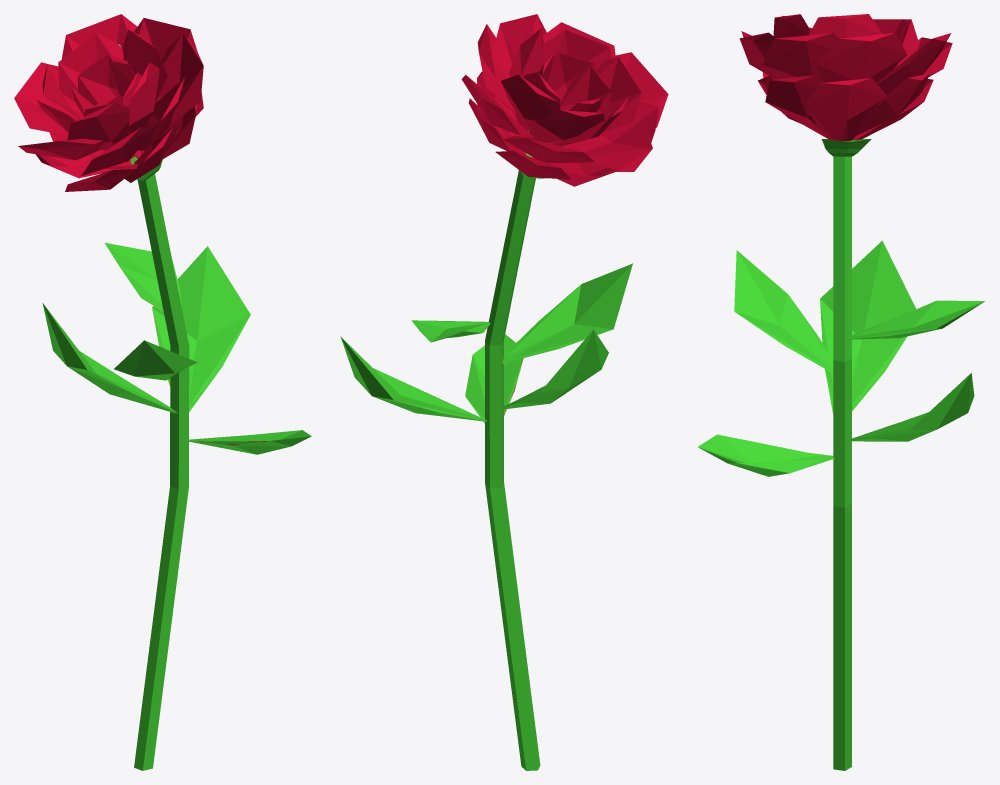
File: flower3.fbx
3 views of the same model, side by side, from view 1: azimuth 30°, elevation 25°; view 2: azimuth 150°, elevation 25°; view 3: azimuth 270°, elevation 25° (orthographic). The views are drawn at different scales.
Parts seen in each view (by area): view 1: flower3; view 2: flower3; view 3: flower3.
Boxes of the visible parts, bbox=[...] form: flower3: bbox=[14, 14, 311, 770]; flower3: bbox=[341, 14, 668, 770]; flower3: bbox=[698, 14, 984, 770].
Bounding box in the file's own units: 62.51 × 166 × 57.81.
